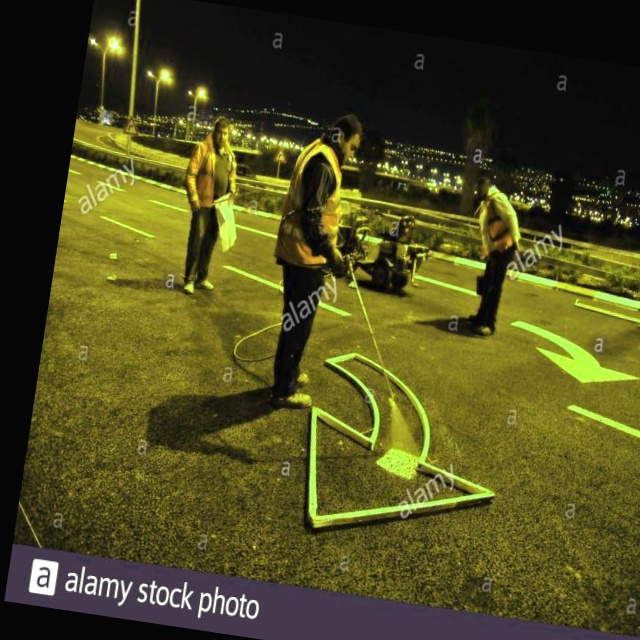Con_Chaleco: (272, 141, 354, 267), (184, 142, 240, 219)
Sin_Casco_Mascarrilla: (208, 114, 234, 148)
